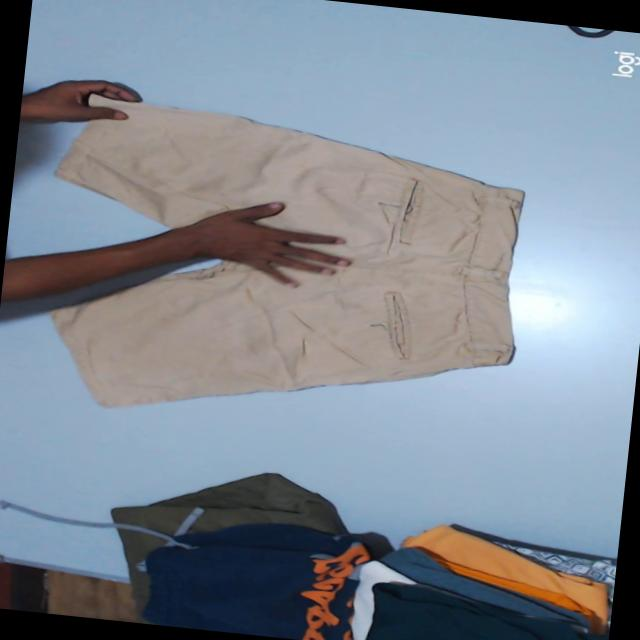new-garment: (52, 96, 522, 405)
